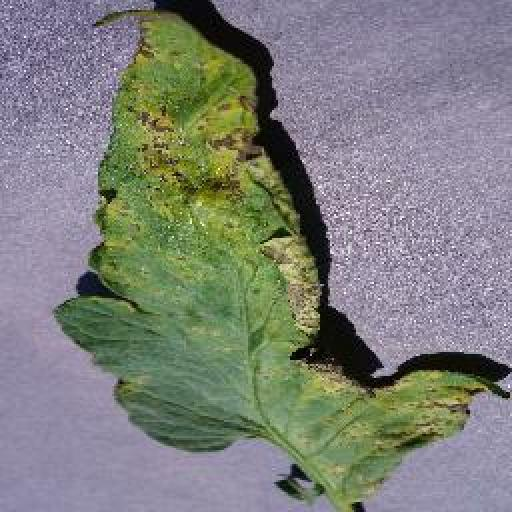disease_tomato: (54, 6, 507, 502)
